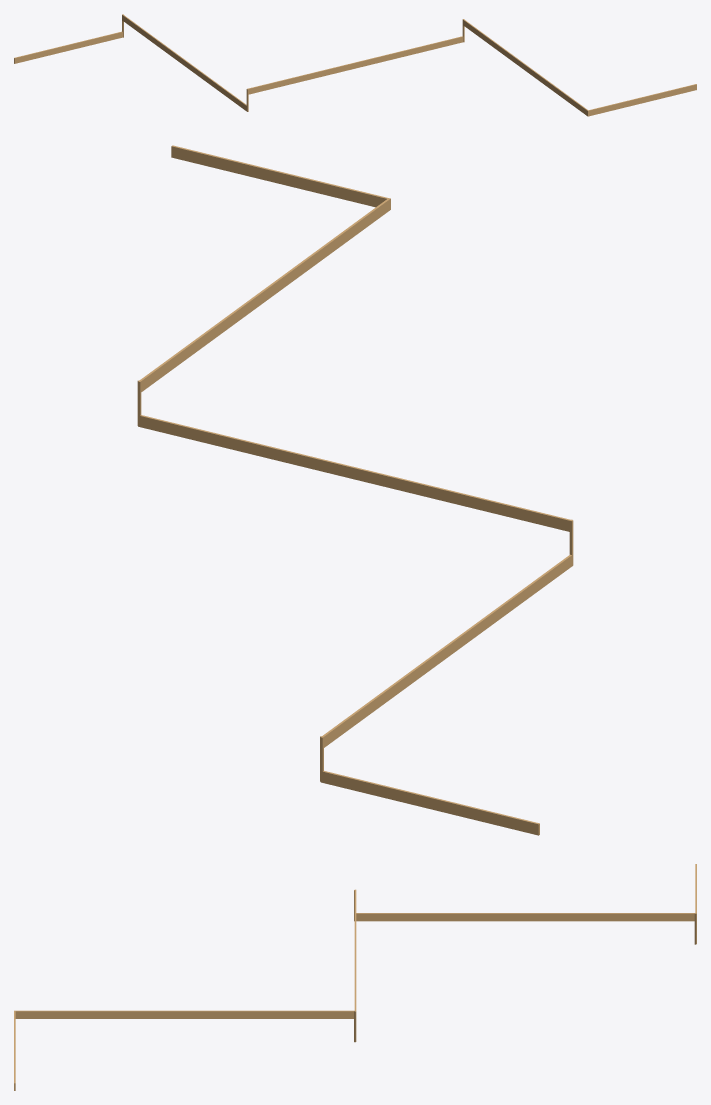
The model's file is board.glb.
3 views of the same model, one above another, from view 1: azimuth 30°, elevation 25°; view 2: azimuth 150°, elevation 25°; view 3: azimuth 270°, elevation 25° (orthographic). The views are drawn at different scales.
Visible parts, largest first — view 1: Unified_Net_1_Island_6, Unified_Net_1_Island_13, Unified_Net_1_Island_7, Unified_Net_1_Island_14; view 2: Unified_Net_1_Island_6, Unified_Net_1_Island_13, Unified_Net_1_Island_7, Unified_Net_1_Island_14; view 3: Unified_Net_1_Island_6, Unified_Net_1_Island_7, Unified_Net_1_Island_13.
Part boxes in pixels (x1,y1,x2,y2): Unified_Net_1_Island_6: [462, 19, 696, 116]; Unified_Net_1_Island_13: [246, 36, 463, 94]; Unified_Net_1_Island_7: [122, 14, 247, 111]; Unified_Net_1_Island_14: [14, 31, 122, 63]; Unified_Net_1_Island_6: [138, 145, 390, 392]; Unified_Net_1_Island_13: [138, 415, 573, 532]; Unified_Net_1_Island_7: [320, 554, 573, 748]; Unified_Net_1_Island_14: [320, 771, 539, 835]; Unified_Net_1_Island_6: [14, 1010, 356, 1090]; Unified_Net_1_Island_7: [356, 913, 696, 921]; Unified_Net_1_Island_13: [354, 889, 356, 1010].
Bounding box in the file's own units: 0.00401 × 0.0005 × 0.00401.
